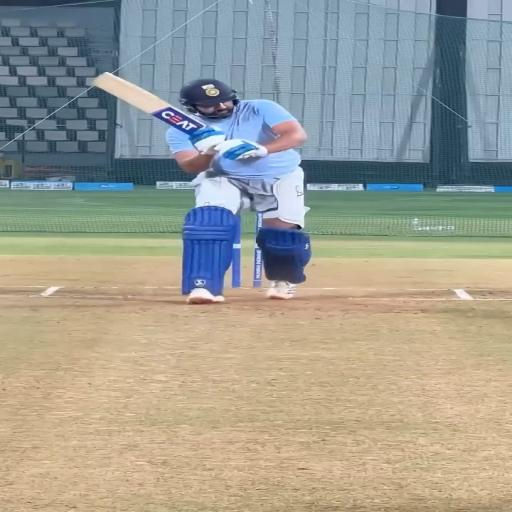Cricket bat: (93, 72, 206, 134)
